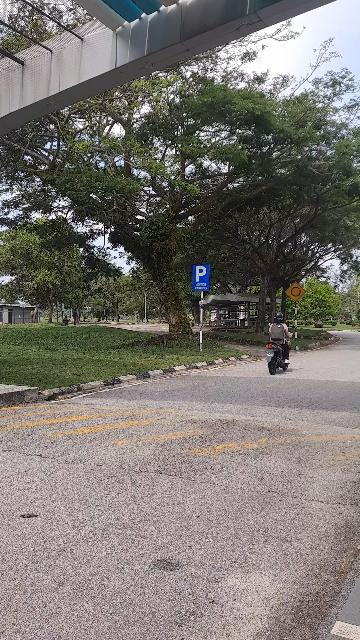License_Plate: (266, 352, 275, 358)
motorcycle: (265, 312, 294, 377)
